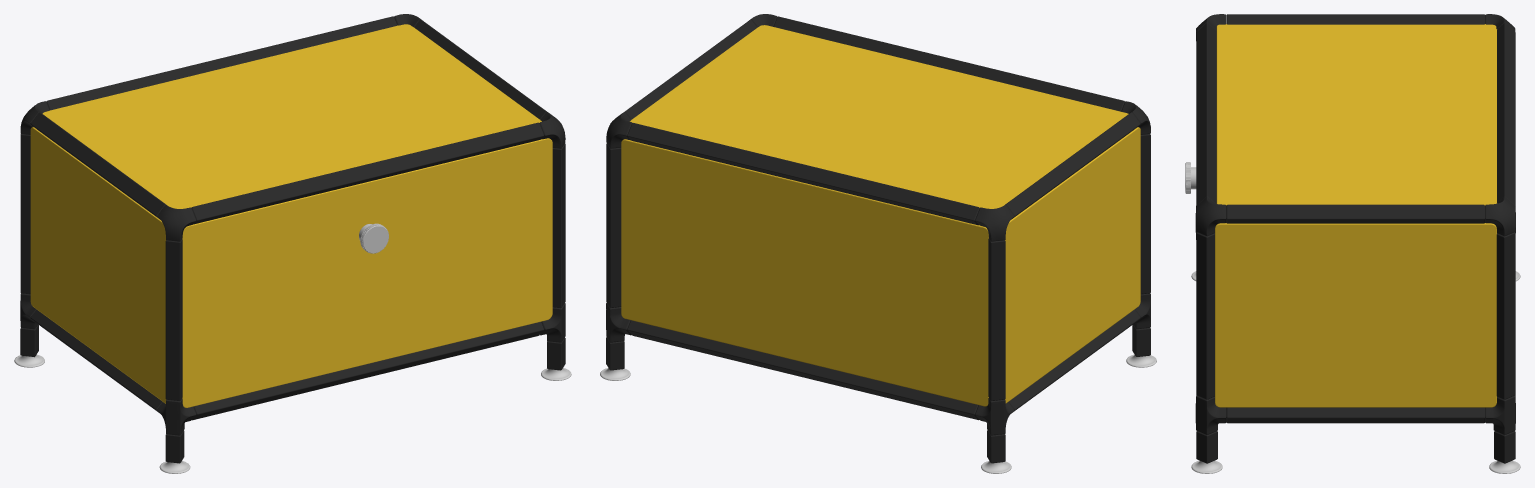
3 views of the same model, side by side, from view 1: azimuth 30°, elevation 25°; view 2: azimuth 150°, elevation 25°; view 3: azimuth 270°, elevation 25° (orthographic). The views are drawn at different scales.
Visible parts, largest first — view 1: 523x329x229; view 2: 523x329x229; view 3: 523x329x229.
Part boxes in pixels (x1,y1,x2,y2): 523x329x229: (14,14,571,473); 523x329x229: (600,14,1156,473); 523x329x229: (1185,14,1520,473).
Bounding box in the file's own units: 0.6129 × 0.3684 × 0.4258.
